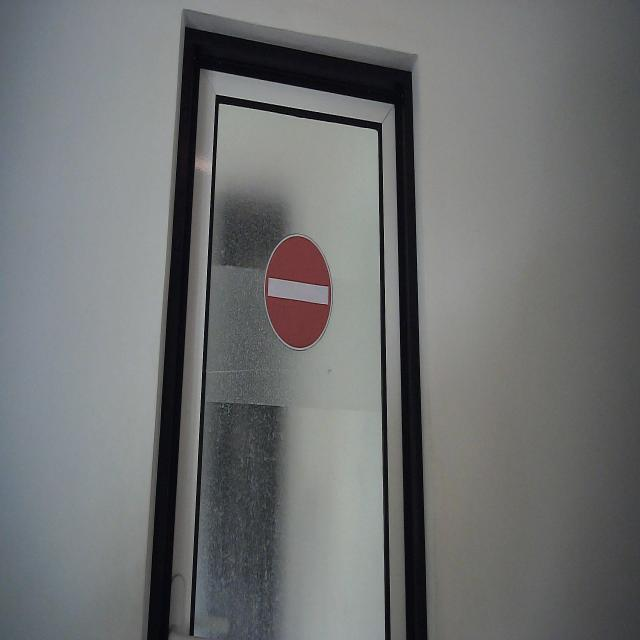no_entry: (262, 230, 335, 354)
